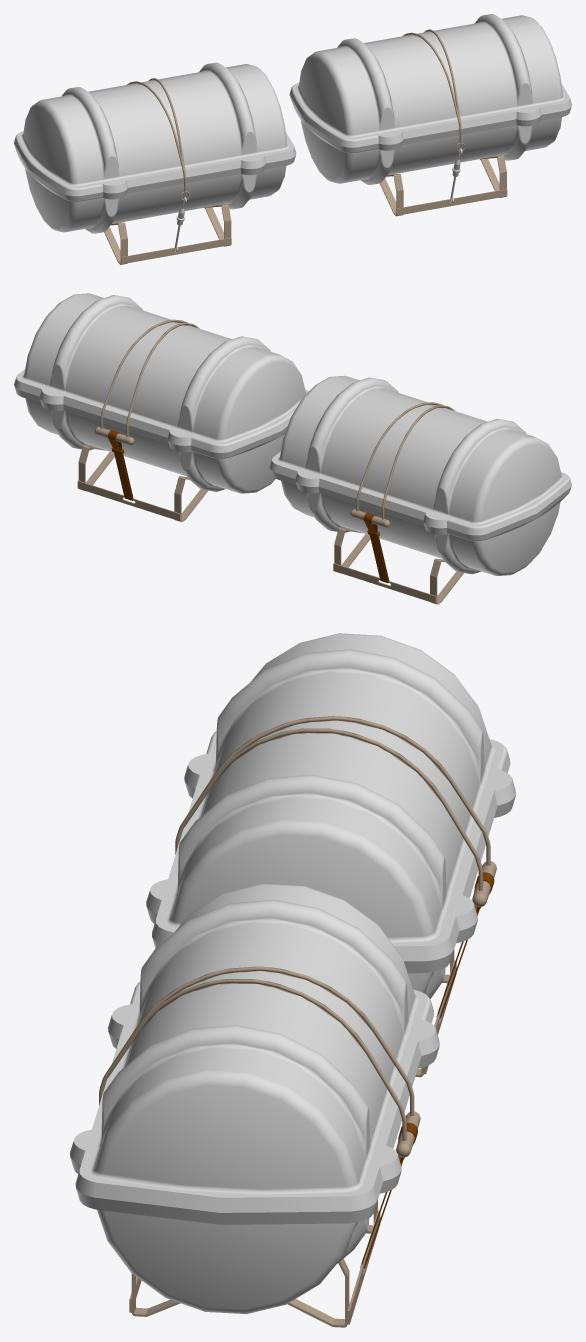
The picture shows the model from 3 angles, top to bottom: view 1: azimuth 30°, elevation 25°; view 2: azimuth 150°, elevation 25°; view 3: azimuth 270°, elevation 25°; orthographic projection. The views are drawn at different scales.
Visible parts, largest first — view 1: NAUO30; view 2: NAUO30; view 3: NAUO30.
Boxes of the visible parts, x1,y1,x2,y2 form: NAUO30: [14, 14, 571, 264]; NAUO30: [14, 293, 571, 604]; NAUO30: [70, 633, 515, 1327].
Size of the model in its own units: 3.79 by 1.14 by 1.49.
